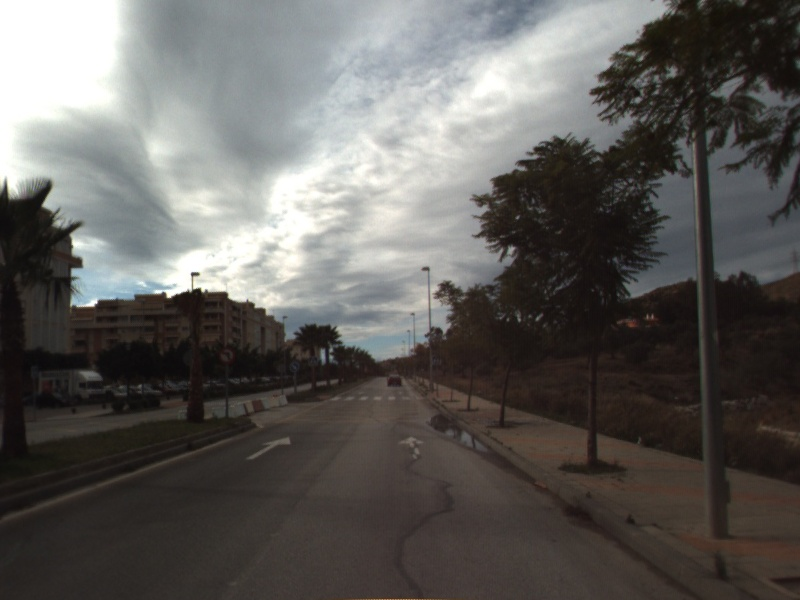STRAIGHT: (243, 434, 293, 462), (396, 434, 427, 462)
